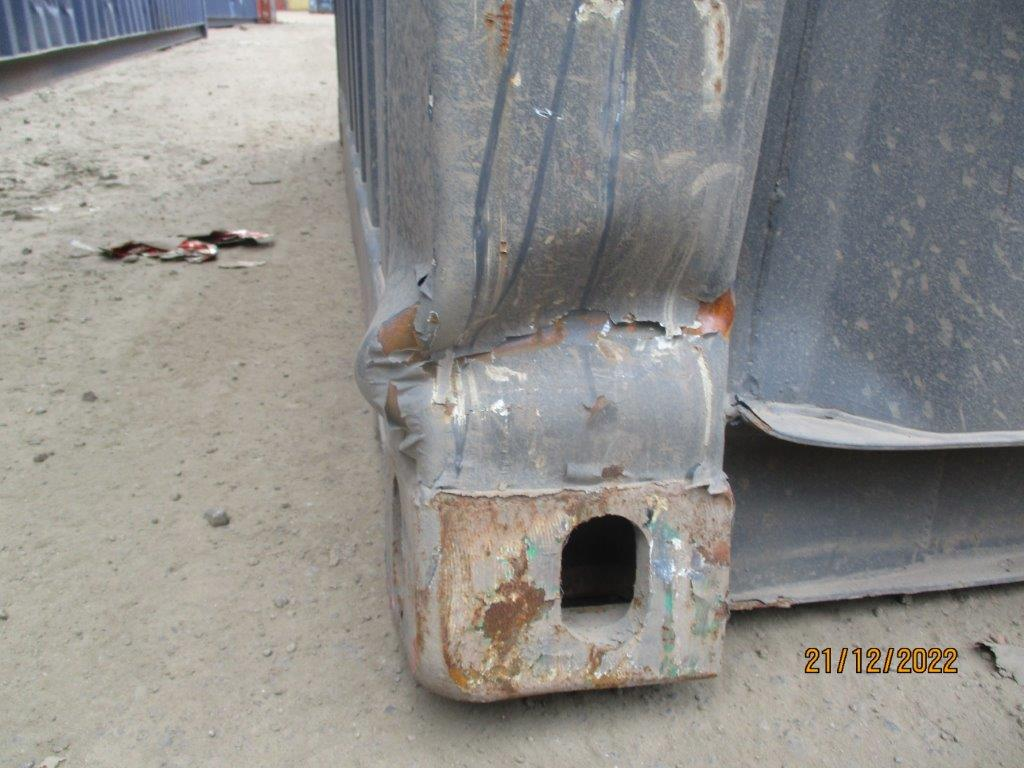moderate: (374, 193, 745, 470)
